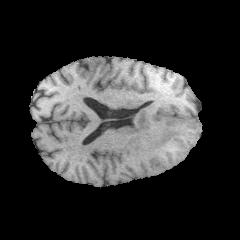glioma: (128, 99, 195, 158)
